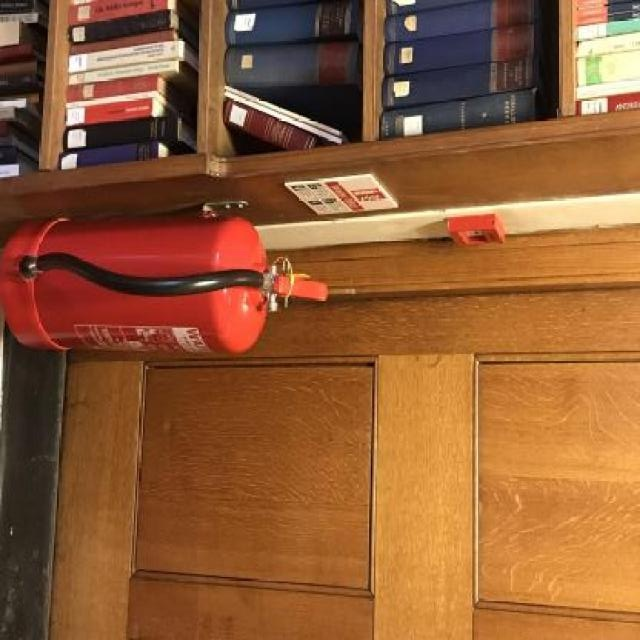fire extinguisher: (1, 216, 335, 364)
